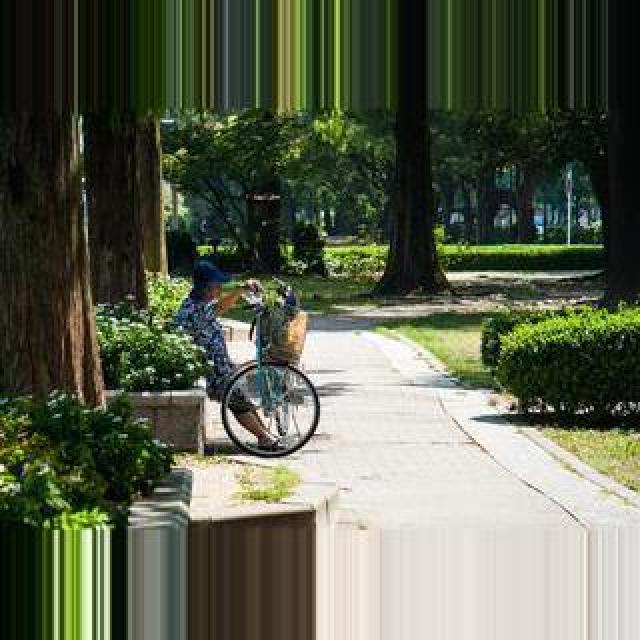MC-Bike: (172, 248, 252, 398)
Person: (217, 281, 319, 457)
